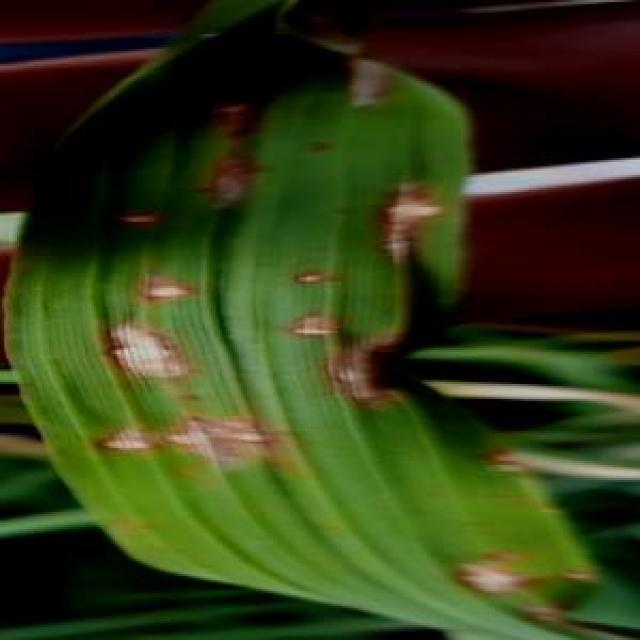Rice_Blast: (286, 322, 433, 427), (158, 394, 305, 486), (454, 529, 584, 621), (192, 136, 301, 242), (85, 303, 192, 399), (369, 164, 446, 271), (66, 386, 158, 469), (458, 422, 560, 495), (254, 296, 342, 367), (262, 232, 354, 298), (104, 258, 205, 312), (211, 74, 282, 150), (85, 184, 158, 248)
